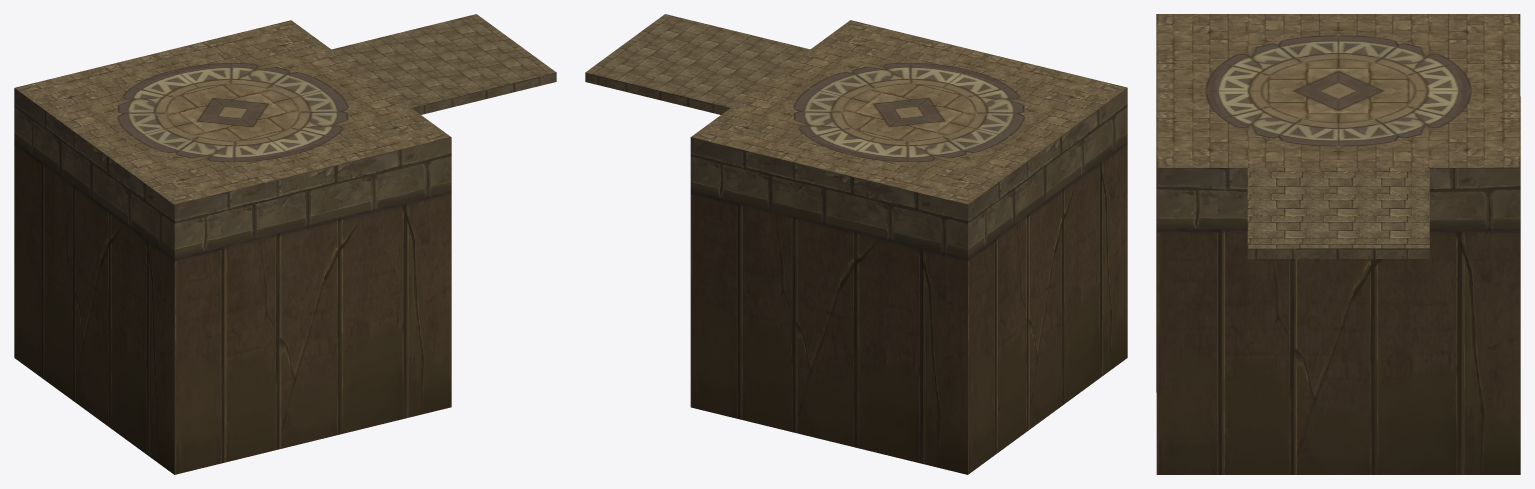
The model's file is Battle04_Table_03.FBX.
3 views of the same model, side by side, from view 1: azimuth 30°, elevation 25°; view 2: azimuth 150°, elevation 25°; view 3: azimuth 270°, elevation 25° (orthographic). The views are drawn at different scales.
Visible parts, largest first — view 1: Battle04_Table_03_02, Battle04_Table_03_01, Battle04_Table_03_03; view 2: Battle04_Table_03_02, Battle04_Table_03_01, Battle04_Table_03_03; view 3: Battle04_Table_03_02, Battle04_Table_03_01, Battle04_Table_03_03.
Boxes of the visible parts, x1=… form: Battle04_Table_03_02: x1=14, y1=72, x2=556, y2=474; Battle04_Table_03_01: x1=15, y1=20, x2=450, y2=204; Battle04_Table_03_03: x1=331, y1=14, x2=556, y2=107; Battle04_Table_03_02: x1=585, y1=72, x2=1127, y2=474; Battle04_Table_03_01: x1=691, y1=20, x2=1127, y2=204; Battle04_Table_03_03: x1=585, y1=14, x2=809, y2=107; Battle04_Table_03_02: x1=1156, y1=85, x2=1520, y2=474; Battle04_Table_03_01: x1=1156, y1=14, x2=1520, y2=167; Battle04_Table_03_03: x1=1247, y1=168, x2=1429, y2=248.
Bounding box in the file's own units: 33.74 × 20.6 × 22.14.
